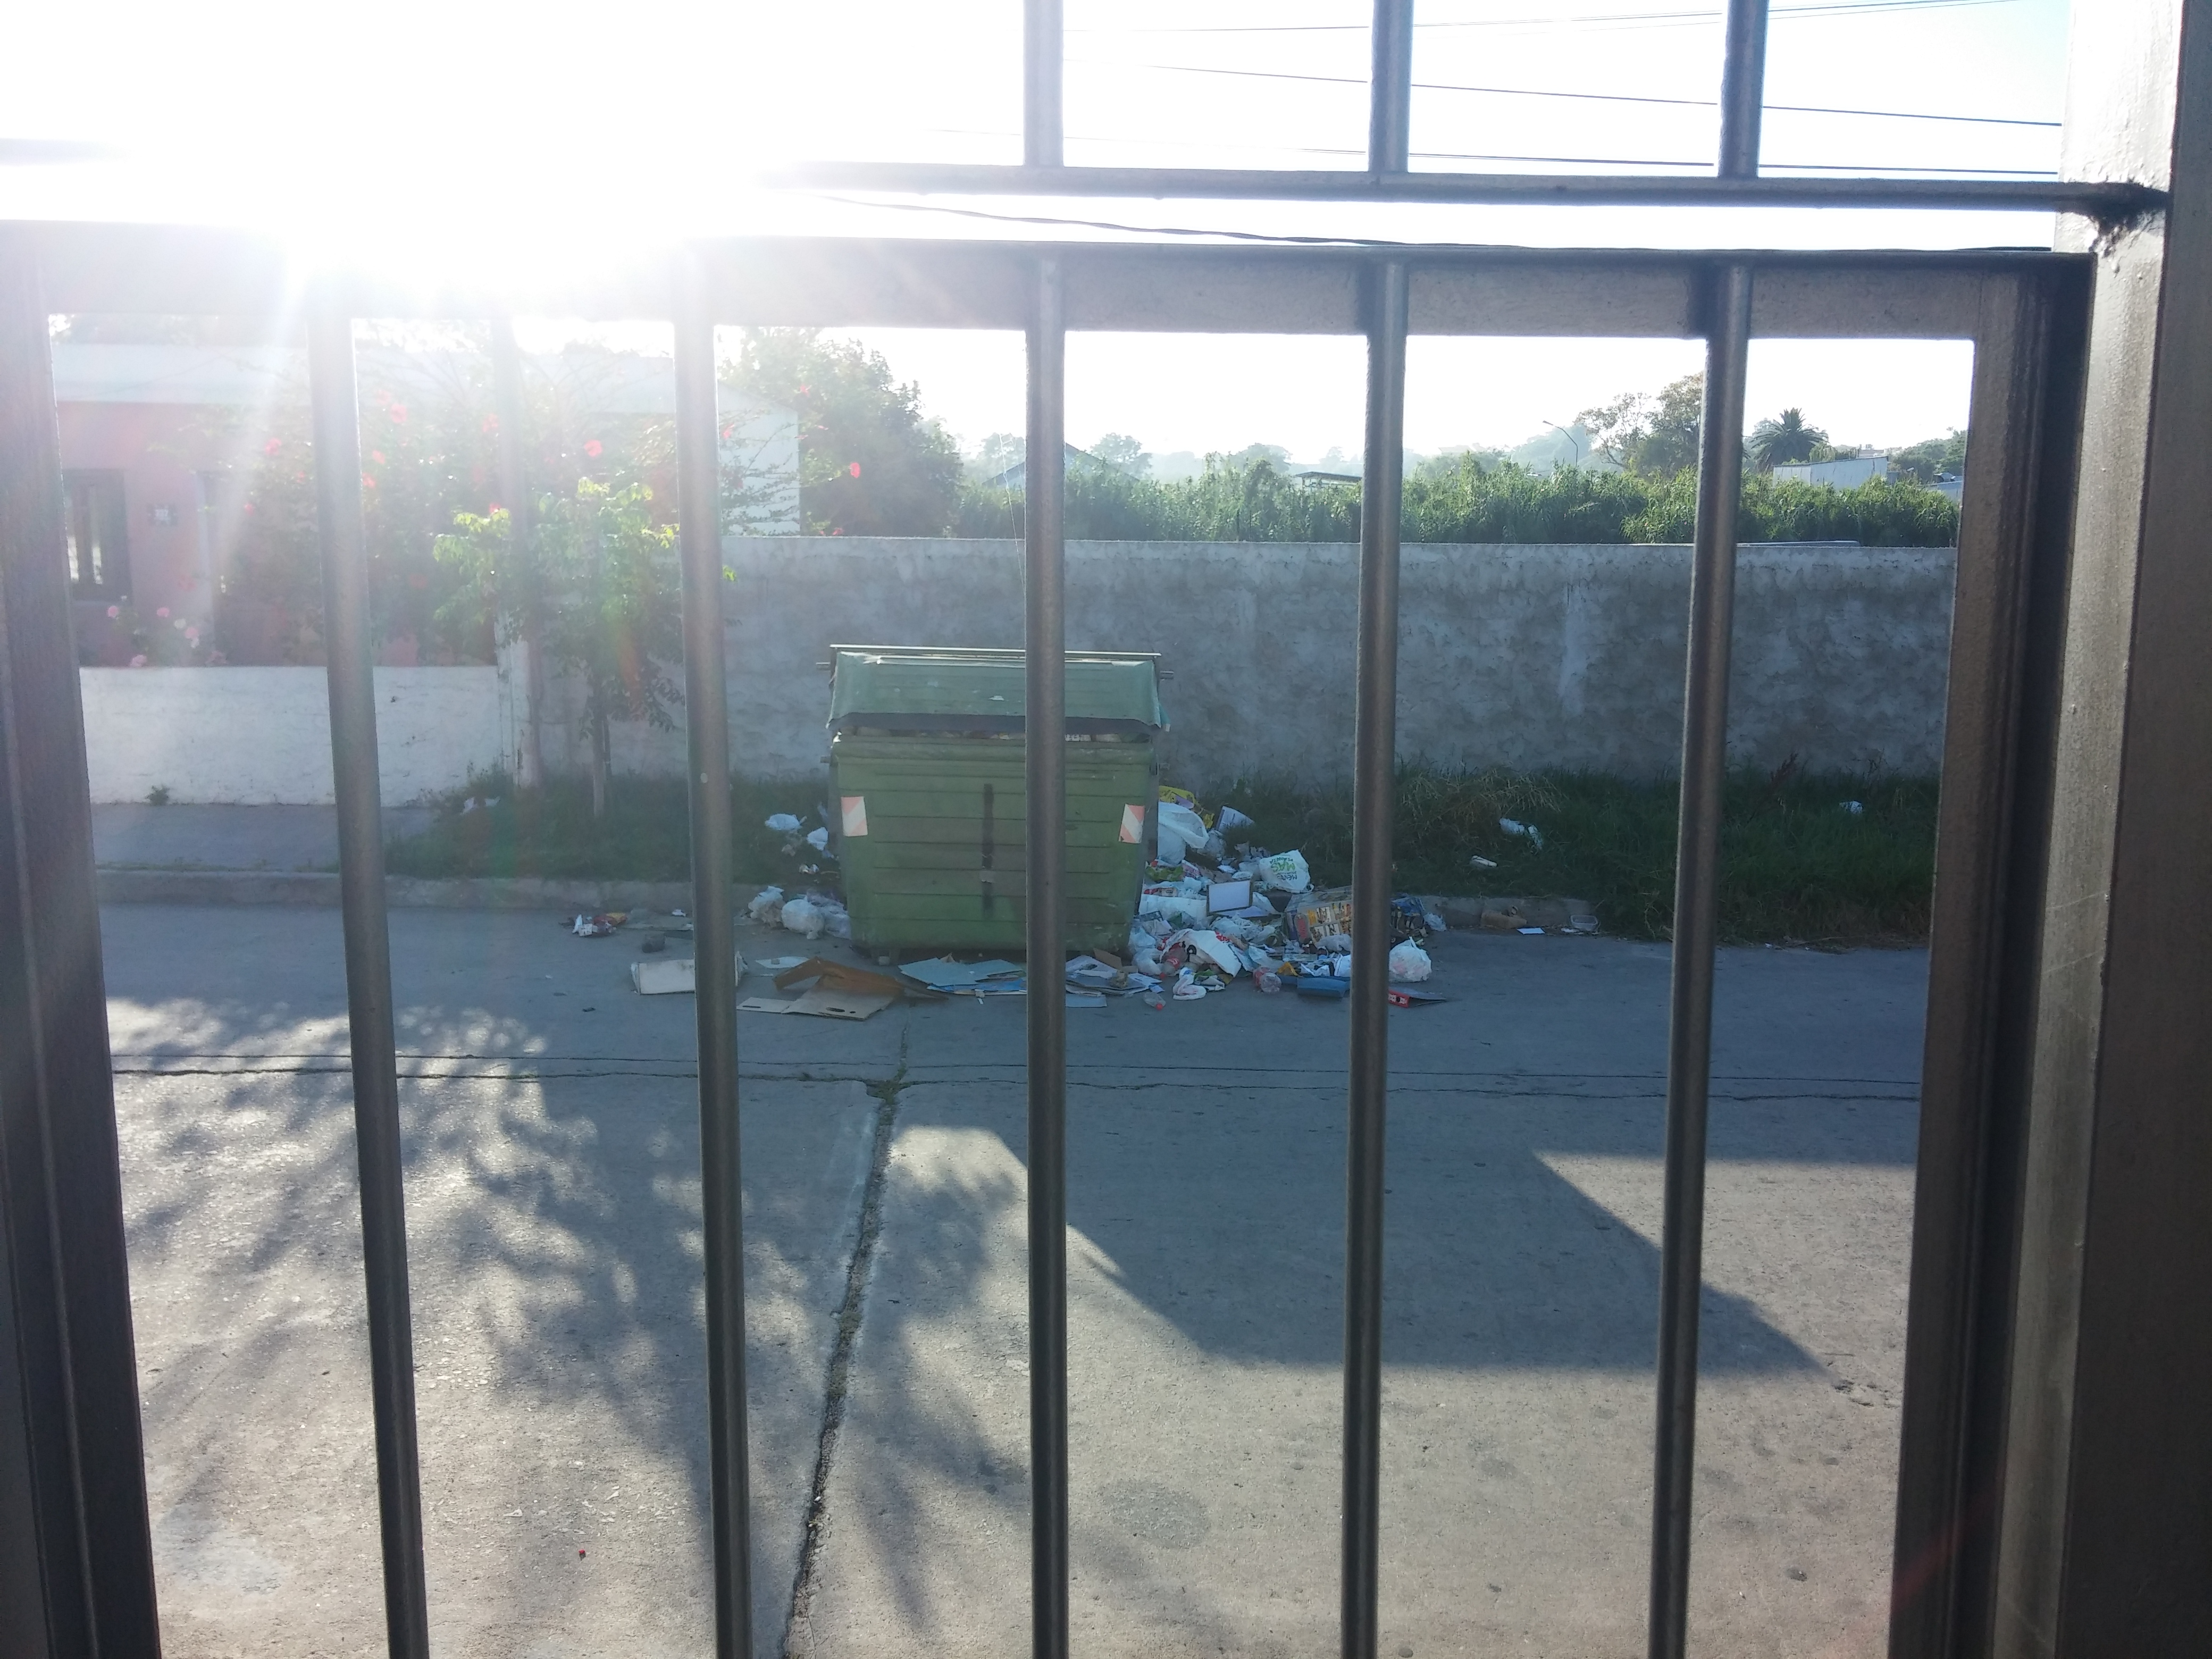container: (812, 626, 1181, 983)
